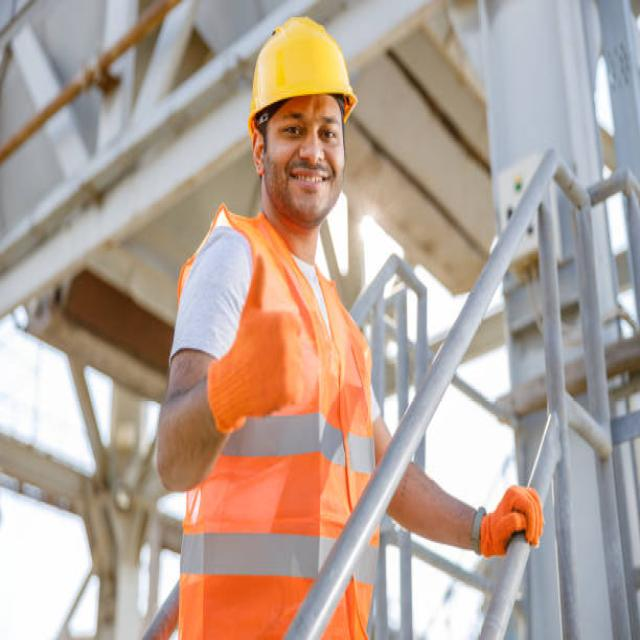Gloves: (208, 253, 306, 434), (477, 482, 546, 558)
Vest: (176, 202, 378, 640)
helmet: (247, 15, 358, 136)
person: (160, 14, 546, 640)
